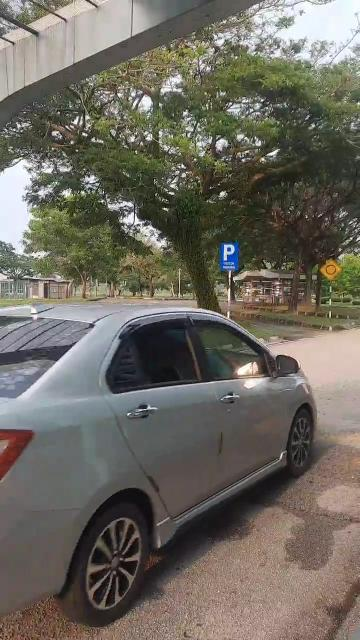car: (2, 286, 313, 622)
